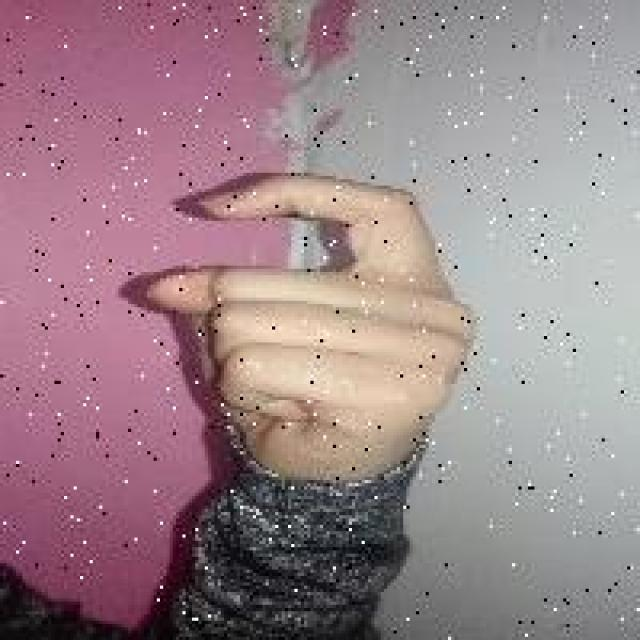X: (134, 163, 477, 512)
